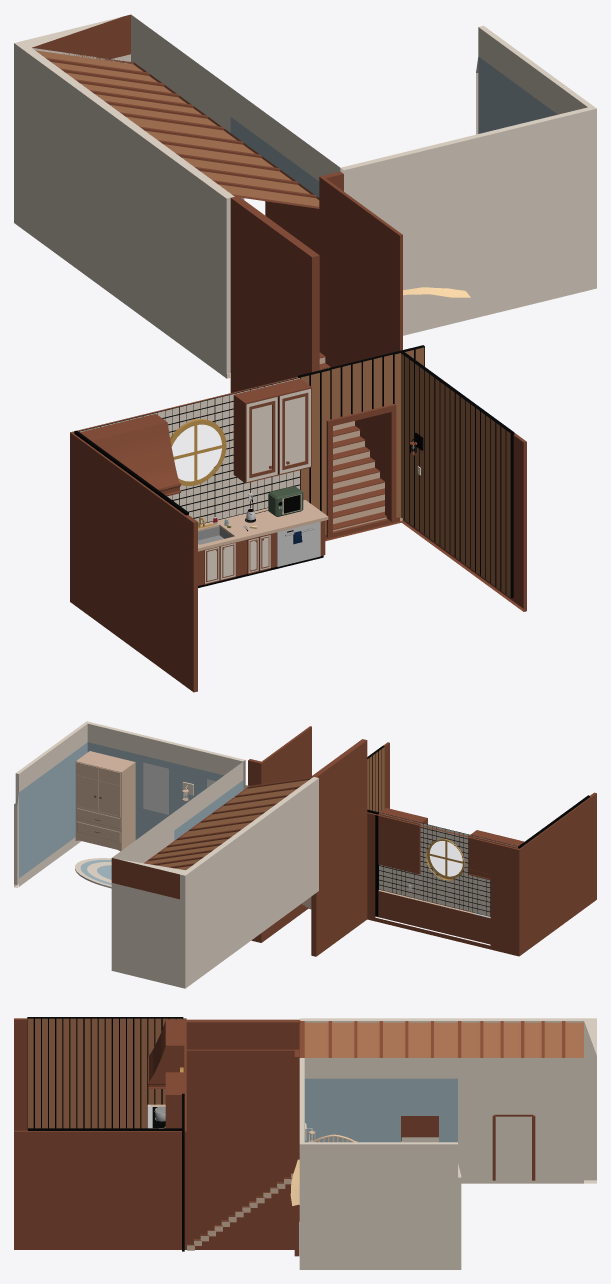
The model's file is FirstFlashEnvironment.glb.
The picture shows the model from 3 angles, top to bottom: view 1: azimuth 30°, elevation 25°; view 2: azimuth 150°, elevation 25°; view 3: azimuth 270°, elevation 25°; orthographic projection. The views are drawn at different scales.
Parts seen in each view (by area): view 1: Cube.002, KitchenBase, Cube.012, Cube.014, KitchenBase.001, Cube, Cube.010, Cube.003, Cube.001, Cube.017, Cylinder, Cube.013 (+3 smaller); view 2: Cube.002, KitchenBase, closet, Cube.010, Cube.014, Cube, Cube.001, Cylinder, poster, Cube.012, carpet, Cube.013; view 3: Cube.002, KitchenBase, Cube.015, Cube.014, Cube.001, Cube, Cube.003, Cube.087, Cube.012, Cube.016, Plane.001.
Part boxes in pixels (left/top/right/bottom): Cube.002: left=14, top=14, right=596, bottom=378; KitchenBase: left=70, top=171, right=526, bottom=692; Cube.012: left=400, top=350, right=514, bottom=598; Cube.014: left=35, top=50, right=319, bottom=208; KitchenBase.001: left=198, top=500, right=328, bottom=587; Cube: left=232, top=377, right=311, bottom=483; Cube.010: left=79, top=377, right=299, bottom=524; Cube.003: left=319, top=352, right=402, bottom=531; Cube.001: left=78, top=412, right=181, bottom=496; Cube.017: left=329, top=352, right=393, bottom=419; Cylinder: left=170, top=419, right=226, bottom=486; Cube.013: left=298, top=368, right=330, bottom=535; Cube.002: left=14, top=721, right=318, bottom=988; KitchenBase: left=248, top=726, right=596, bottom=956; closet: left=75, top=751, right=135, bottom=851; Cube.010: left=379, top=812, right=517, bottom=916; Cube.014: left=144, top=777, right=312, bottom=870; Cube: left=378, top=808, right=427, bottom=874; Cube.001: left=467, top=830, right=524, bottom=880; Cylinder: left=425, top=838, right=464, bottom=880; poster: left=143, top=762, right=168, bottom=814; Cube.012: left=367, top=745, right=384, bottom=812; carpet: left=75, top=858, right=111, bottom=888; Cube.013: left=367, top=809, right=378, bottom=916; Cube.002: left=299, top=1018, right=596, bottom=1269; KitchenBase: left=14, top=1018, right=300, bottom=1256; Cube.015: left=27, top=1017, right=183, bottom=1130; Cube.014: left=299, top=1021, right=583, bottom=1057; Cube.001: left=148, top=1019, right=184, bottom=1088; Cube: left=165, top=1072, right=184, bottom=1128; Cube.003: left=186, top=1173, right=293, bottom=1250; Cube.087: left=492, top=1114, right=535, bottom=1180; Cube.012: left=28, top=1128, right=183, bottom=1130; Cube.016: left=182, top=1125, right=184, bottom=1251; Plane.001: left=290, top=1159, right=299, bottom=1205.
Bounding box in the file's own units: 10.96 × 4.92 × 13.04.
4 materials, 1 textured.
